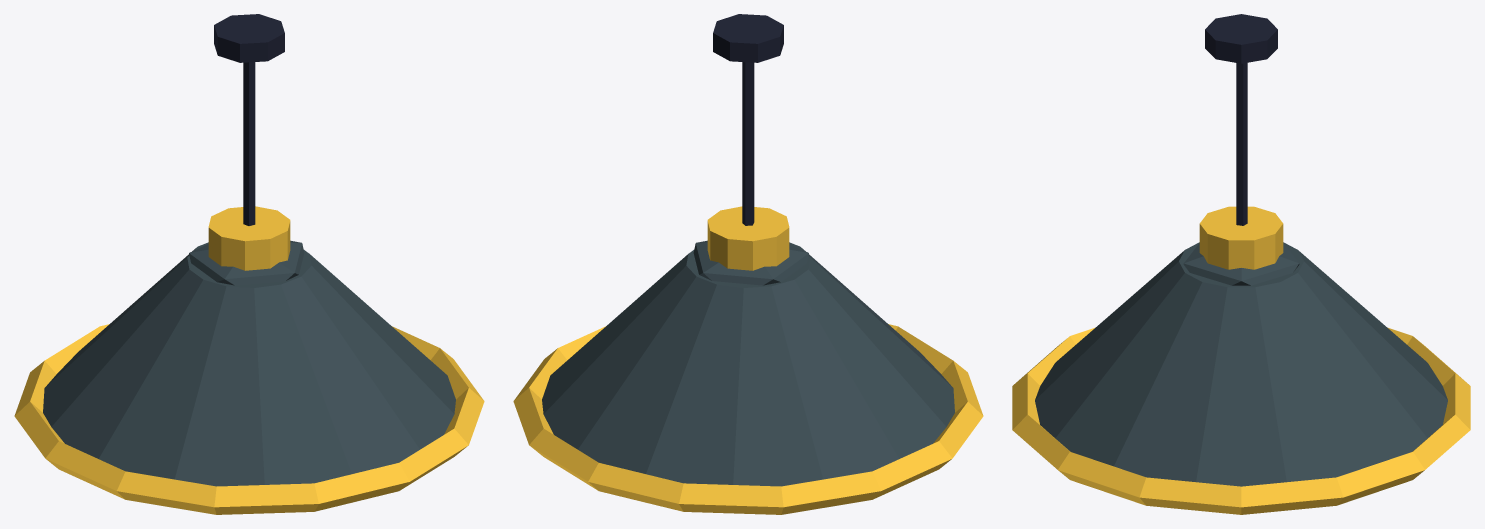
The model's file is sm_env_depot_high_bay_lamp.glb.
The picture shows the model from 3 angles, left to right: view 1: azimuth 30°, elevation 25°; view 2: azimuth 150°, elevation 25°; view 3: azimuth 270°, elevation 25°; orthographic projection.
Parts seen in each view (by area): view 1: Shade, ShadeRim, Neck, Canopy, ShadeCap, Cable; view 2: Shade, ShadeRim, Neck, Canopy, ShadeCap, Cable; view 3: Shade, ShadeRim, Neck, Canopy, ShadeCap, Cable.
Part boxes in pixels (x1,y1,x2,y2): Shade: [43, 242, 455, 486]; ShadeRim: [14, 324, 484, 514]; Neck: [208, 206, 290, 270]; Canopy: [214, 14, 284, 62]; ShadeCap: [189, 240, 304, 285]; Cable: [243, 62, 255, 225]; Shade: [542, 242, 954, 486]; ShadeRim: [513, 324, 983, 514]; Neck: [707, 206, 789, 270]; Canopy: [713, 14, 783, 62]; ShadeCap: [693, 240, 808, 285]; Cable: [742, 62, 754, 225]; Shade: [1035, 242, 1447, 486]; ShadeRim: [1012, 328, 1470, 514]; Neck: [1199, 206, 1283, 269]; Canopy: [1205, 14, 1277, 63]; ShadeCap: [1183, 243, 1299, 285]; Cable: [1236, 63, 1247, 225].
Bounding box in the file's own units: 0.9 × 0.83 × 0.8774.
